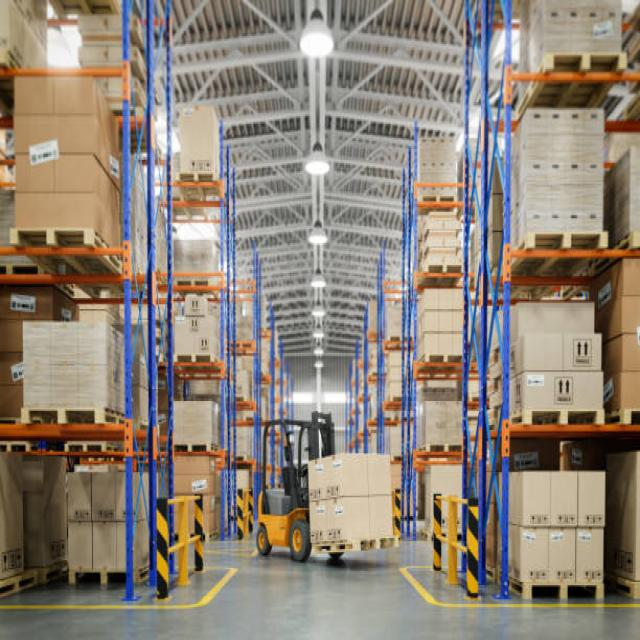Wooden-Pallets: (13, 401, 113, 432), (521, 222, 610, 254), (520, 398, 608, 429), (519, 579, 606, 603), (545, 49, 628, 74), (6, 228, 96, 247)
